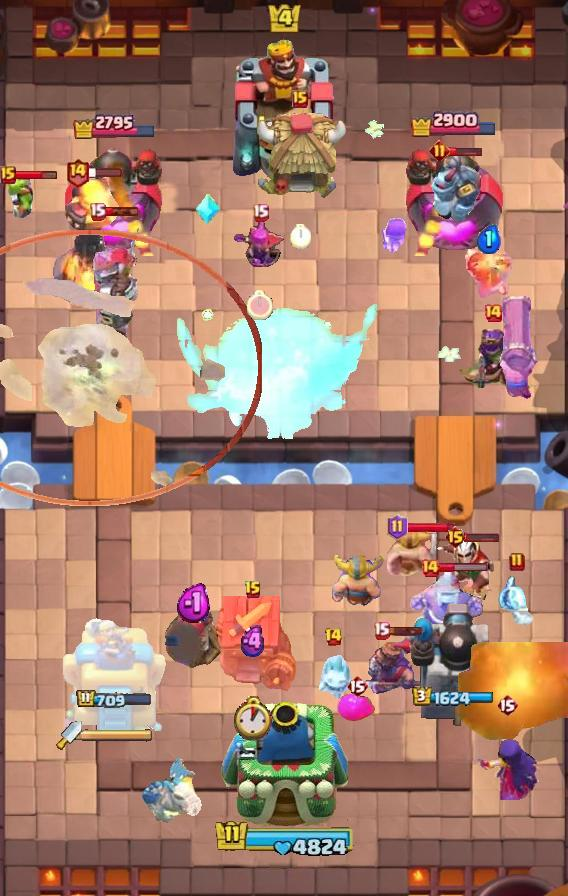axe: (475, 712, 539, 800)
bar: (61, 615, 166, 731)
barbarian-hut: (451, 326, 536, 396)
bat: (311, 652, 355, 702), (496, 575, 538, 627)
battle-healer: (494, 296, 540, 400)
clock: (210, 818, 358, 860)
electro-dragon: (51, 176, 131, 304)
electro-spirit: (175, 583, 212, 624), (239, 626, 269, 658), (476, 224, 501, 254)
elixir: (233, 695, 275, 740), (247, 290, 273, 320), (289, 224, 311, 249)
elixir-collector: (409, 570, 485, 646)
elixir-golem-big: (352, 635, 434, 697)
elixir-golem-small: (423, 153, 483, 223)
emote: (404, 522, 455, 535), (5, 171, 59, 182), (438, 563, 489, 574), (388, 625, 425, 637), (87, 166, 123, 178), (464, 531, 500, 543), (449, 145, 484, 157), (105, 206, 140, 217)
evolution-symbol: (234, 220, 286, 280)
goblin: (381, 216, 411, 256)
goblin-giant: (329, 555, 385, 609), (387, 527, 439, 577)
king-tower: (228, 35, 340, 181), (220, 702, 348, 827)
king-tower-bar: (82, 728, 154, 742)
mega-knight: (155, 291, 377, 465)
miner: (337, 694, 377, 722)
mini-pekka: (140, 757, 204, 825)
pad_2: (195, 193, 221, 225)
prince: (253, 111, 347, 201)
royal-ghost: (0, 230, 262, 506)
royal-giant-evolution: (160, 601, 228, 671)
selected: (410, 109, 499, 137), (71, 112, 156, 140), (412, 686, 494, 707), (75, 689, 152, 711)
skeleton-dragon: (461, 245, 515, 299)
skeleton-king: (434, 536, 512, 600)
sparky: (210, 595, 296, 693)
text: (66, 156, 91, 187), (445, 525, 468, 549), (387, 514, 408, 540), (346, 674, 368, 698), (496, 693, 518, 717), (430, 140, 451, 161), (483, 303, 503, 323), (420, 558, 440, 578), (324, 627, 343, 647), (244, 580, 262, 600), (509, 552, 525, 572), (89, 203, 106, 221), (251, 203, 268, 221), (373, 621, 390, 639), (292, 90, 308, 108), (0, 166, 16, 184)
tower-bar: (63, 138, 164, 256), (404, 138, 505, 256), (408, 599, 498, 731)
valkyrie: (444, 642, 568, 750)
wall-breaker-evolution: (78, 207, 149, 345)
zap: (0, 171, 36, 221)
